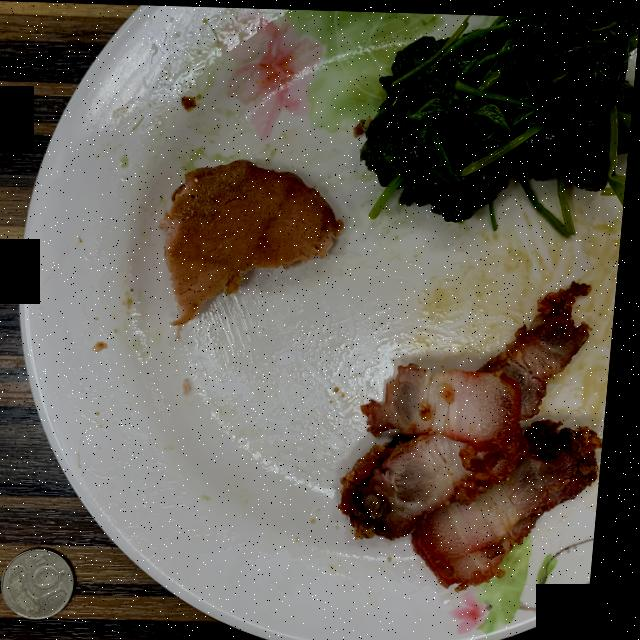Spam: (164, 158, 348, 323)
coin: (12, 547, 86, 618)
red grilled pork: (348, 279, 609, 586)
sweet potato leaves: (364, 12, 640, 218)
